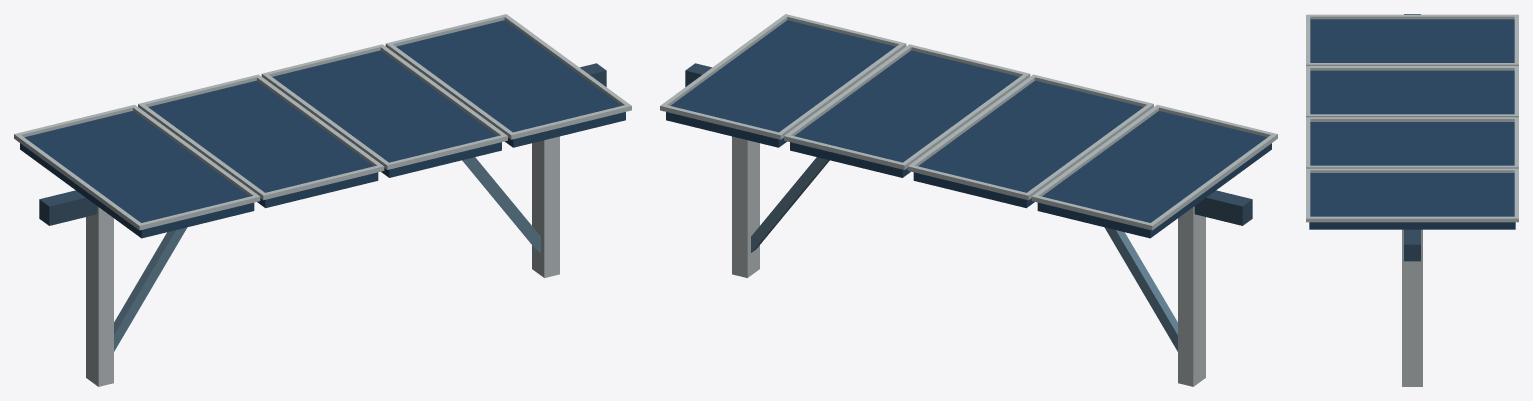
Rendered from SpaceStation_SolarTruss_Simple.glb.
3 renders of one model, left to right at view 1: azimuth 30°, elevation 25°; view 2: azimuth 150°, elevation 25°; view 3: azimuth 270°, elevation 25°, orthographic. The views are drawn at different scales.
Parts seen in each view (by area): view 1: SpaceStation_SolarTruss_Simple; view 2: SpaceStation_SolarTruss_Simple; view 3: SpaceStation_SolarTruss_Simple.
Boxes of the visible parts, x1,y1,x2,y2 form: SpaceStation_SolarTruss_Simple: (14,14,631,386); SpaceStation_SolarTruss_Simple: (660,14,1277,386); SpaceStation_SolarTruss_Simple: (1306,14,1518,386).
Size of the model in its own units: 9 by 3.18 by 3.51.
